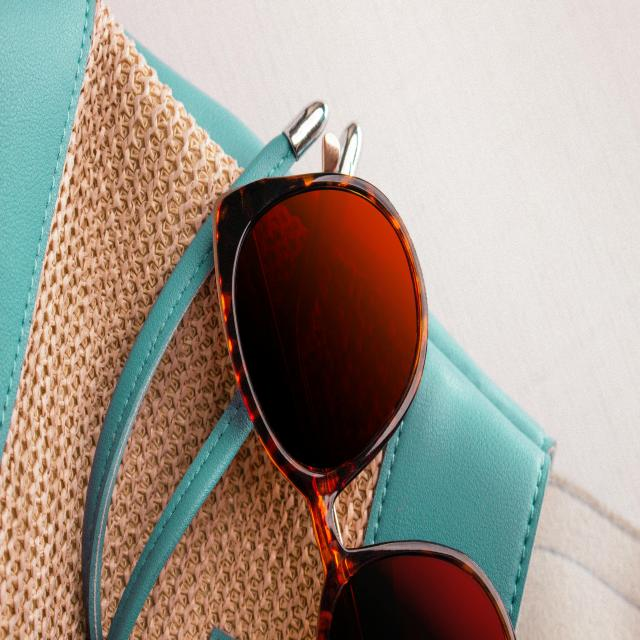oculos: (210, 172, 521, 640)
